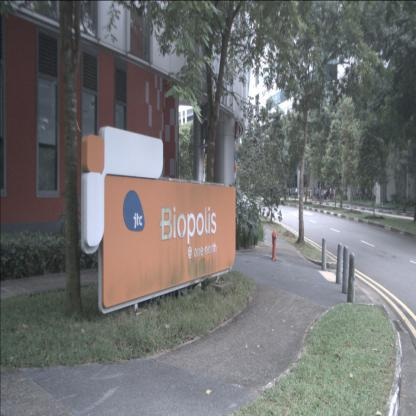human-pedestrian-adult: (316, 186, 320, 201), (294, 187, 298, 199), (312, 188, 316, 200), (288, 187, 291, 200), (330, 188, 333, 200), (323, 189, 326, 200), (298, 187, 300, 201), (326, 187, 328, 200), (315, 188, 317, 200), (310, 188, 312, 200)
